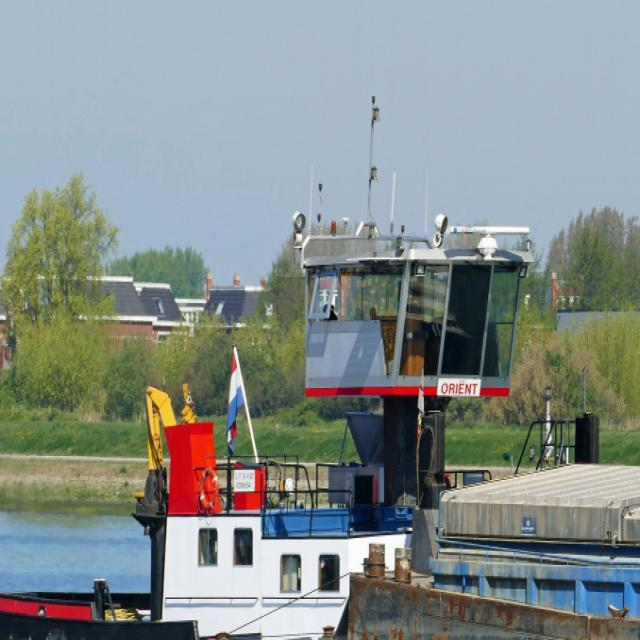tugboat: (1, 212, 615, 640)
